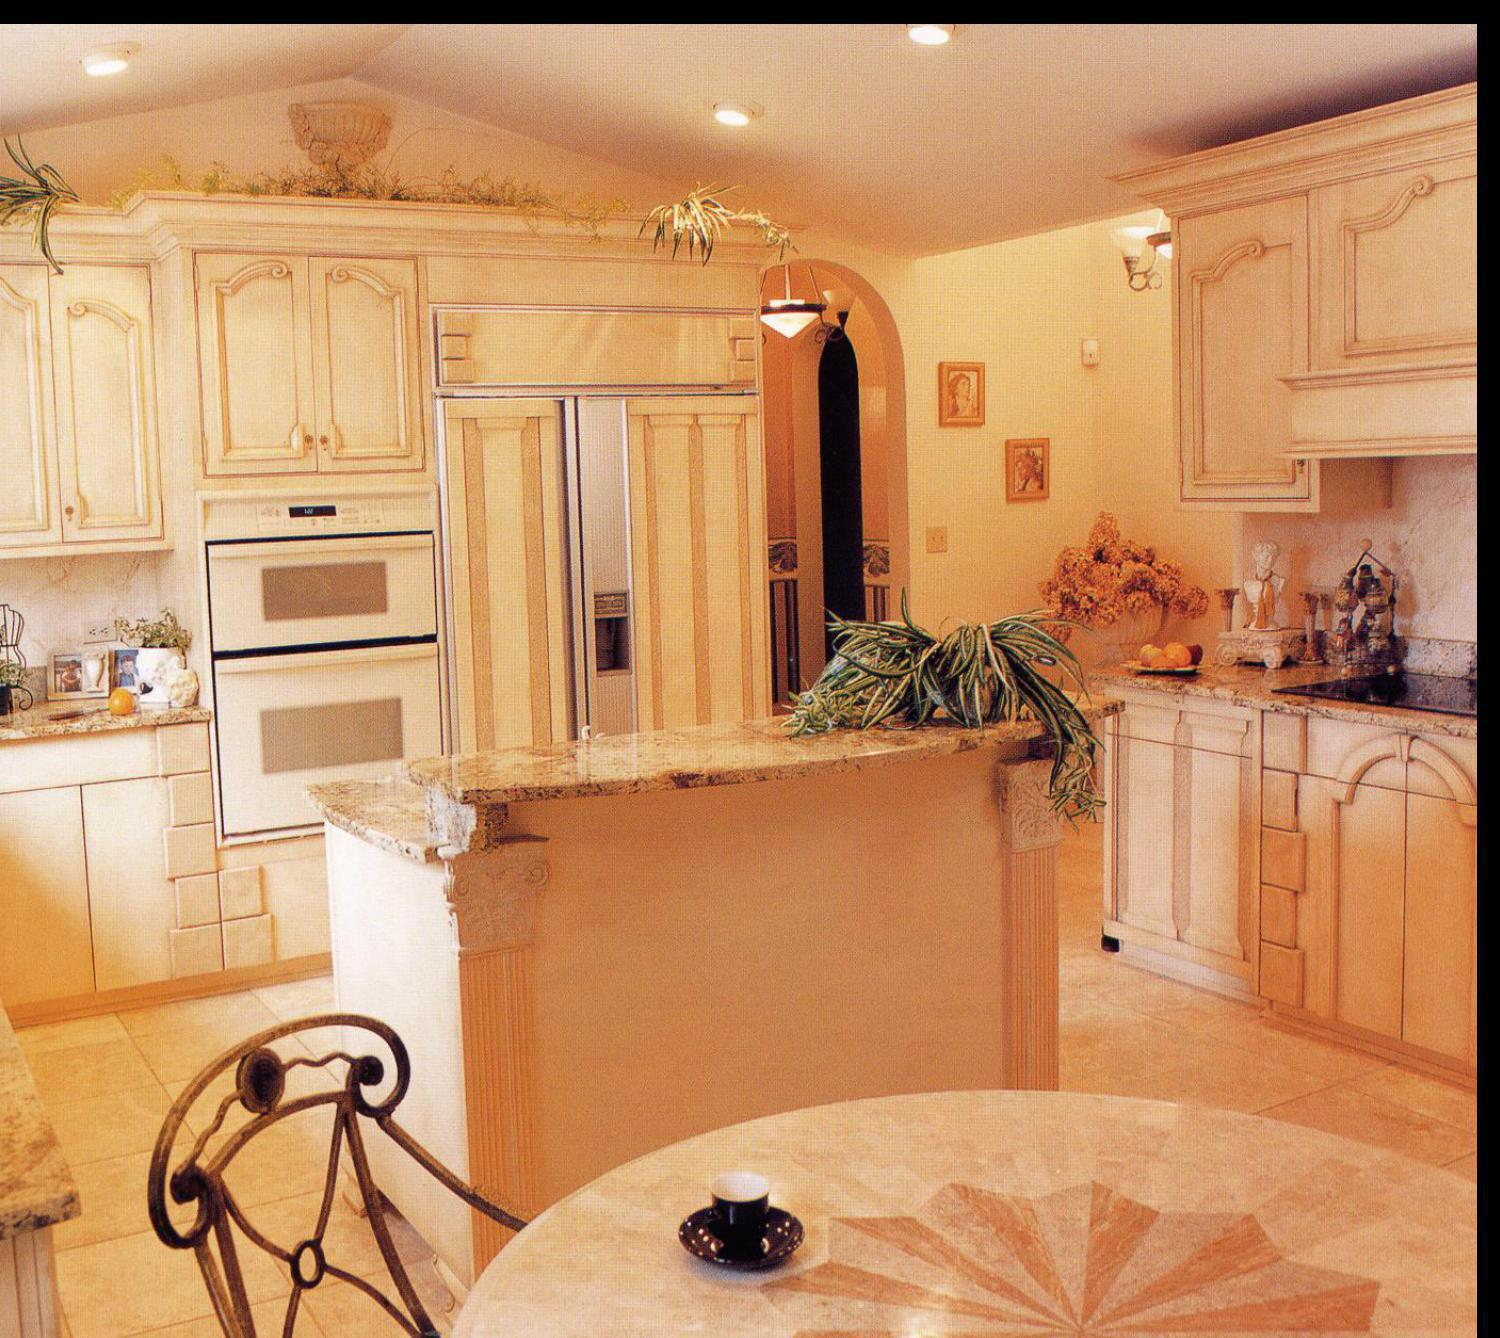Electrodomestico: (438, 387, 767, 713), (214, 508, 420, 812)
Matera: (811, 613, 1056, 743)
